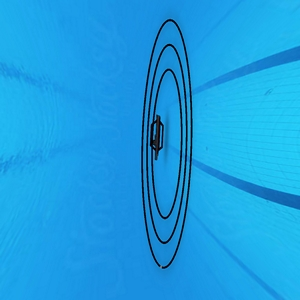circle: (138, 19, 193, 271)
submarine: (151, 116, 163, 155)
